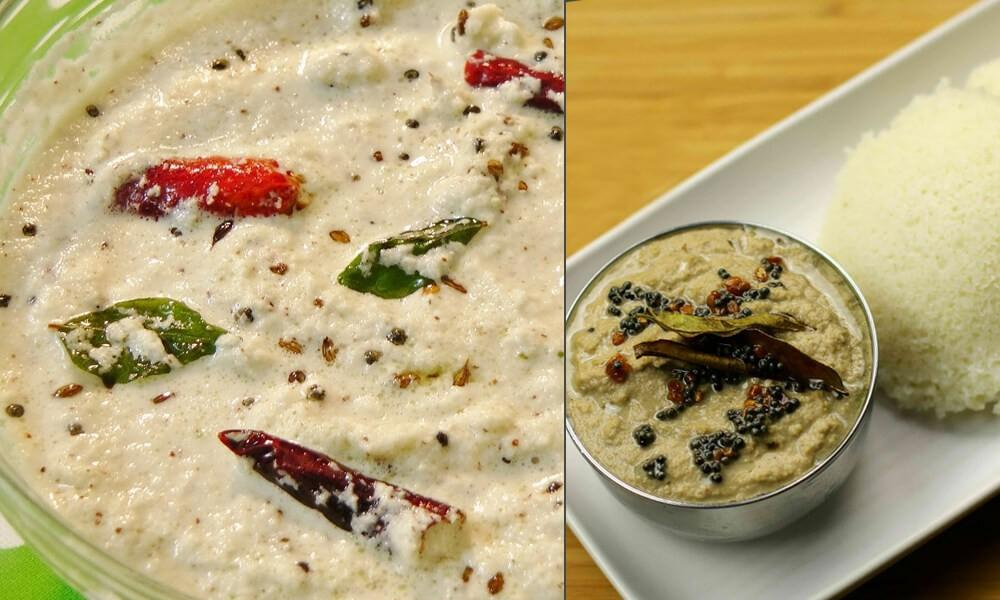CoconutChutney: (0, 1, 565, 600), (565, 224, 871, 500)
